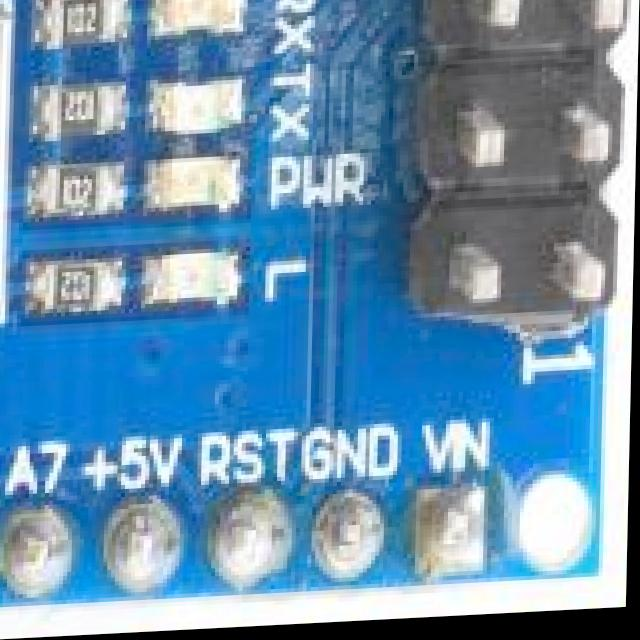LED: (147, 242, 246, 308), (146, 70, 237, 136), (144, 162, 239, 214), (147, 0, 236, 46)
connector: (406, 0, 640, 335)
resistor: (34, 251, 128, 316), (36, 155, 127, 218), (42, 79, 127, 140), (43, 0, 120, 50)
switch: (0, 0, 20, 304)
